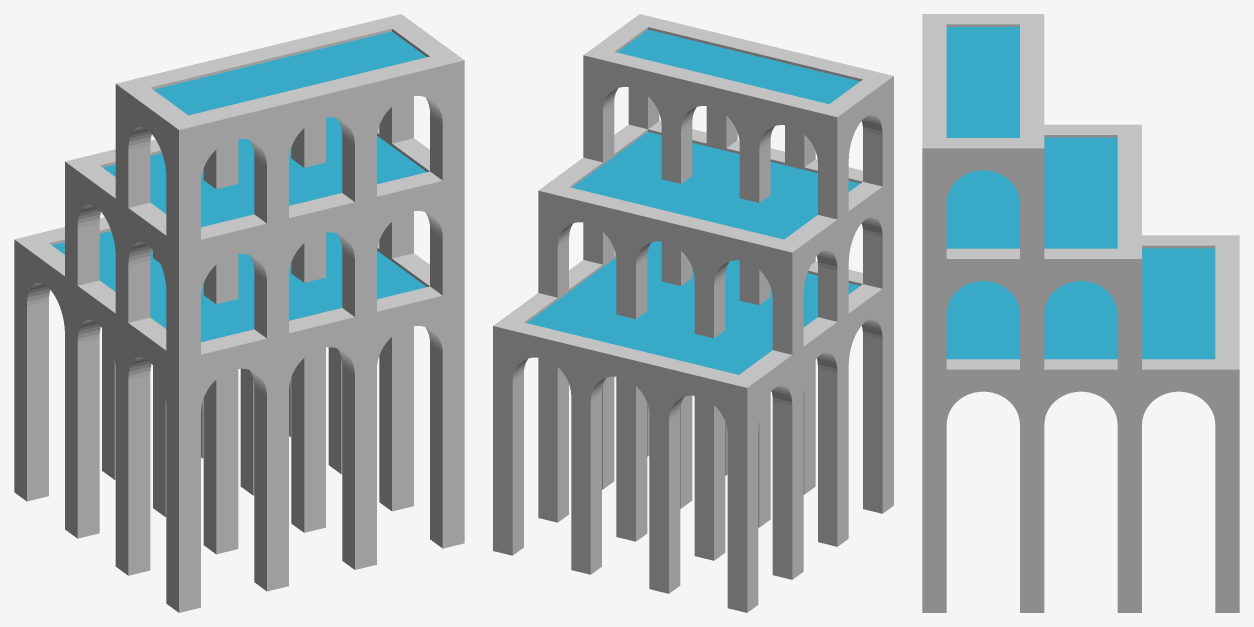
File: waterArchTower2.obj
3 views of the same model, side by side, from view 1: azimuth 30°, elevation 25°; view 2: azimuth 150°, elevation 25°; view 3: azimuth 270°, elevation 25° (orthographic). The views are drawn at different scales.
Parts seen in each view (by area): view 1: block, water; view 2: block, water; view 3: block, water.
Boxes of the visible parts, left/top/right/bottom form: block: left=14, top=14, right=464, bottom=612; water: left=52, top=31, right=426, bottom=342; block: left=493, top=14, right=893, bottom=612; water: left=527, top=29, right=859, bottom=374; block: left=922, top=14, right=1239, bottom=612; water: left=946, top=27, right=1215, bottom=359.
Bounding box in the file's own units: 13 × 21 × 13.
